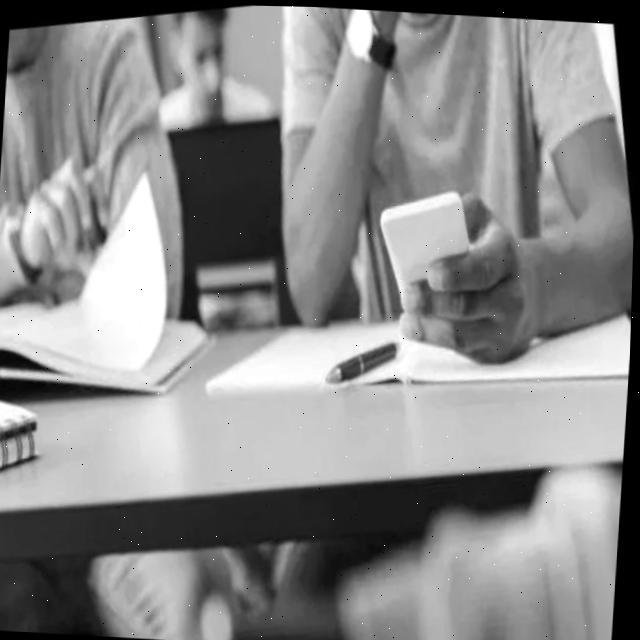phone: (373, 182, 484, 308)
